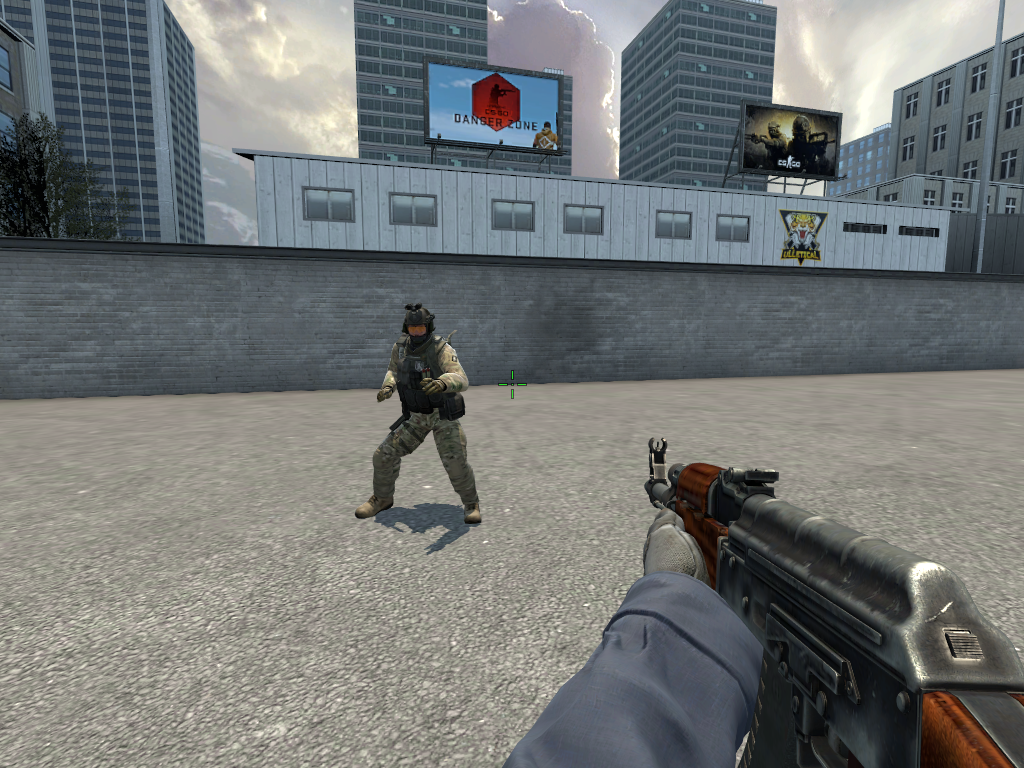ct head: (400, 299, 438, 347)
